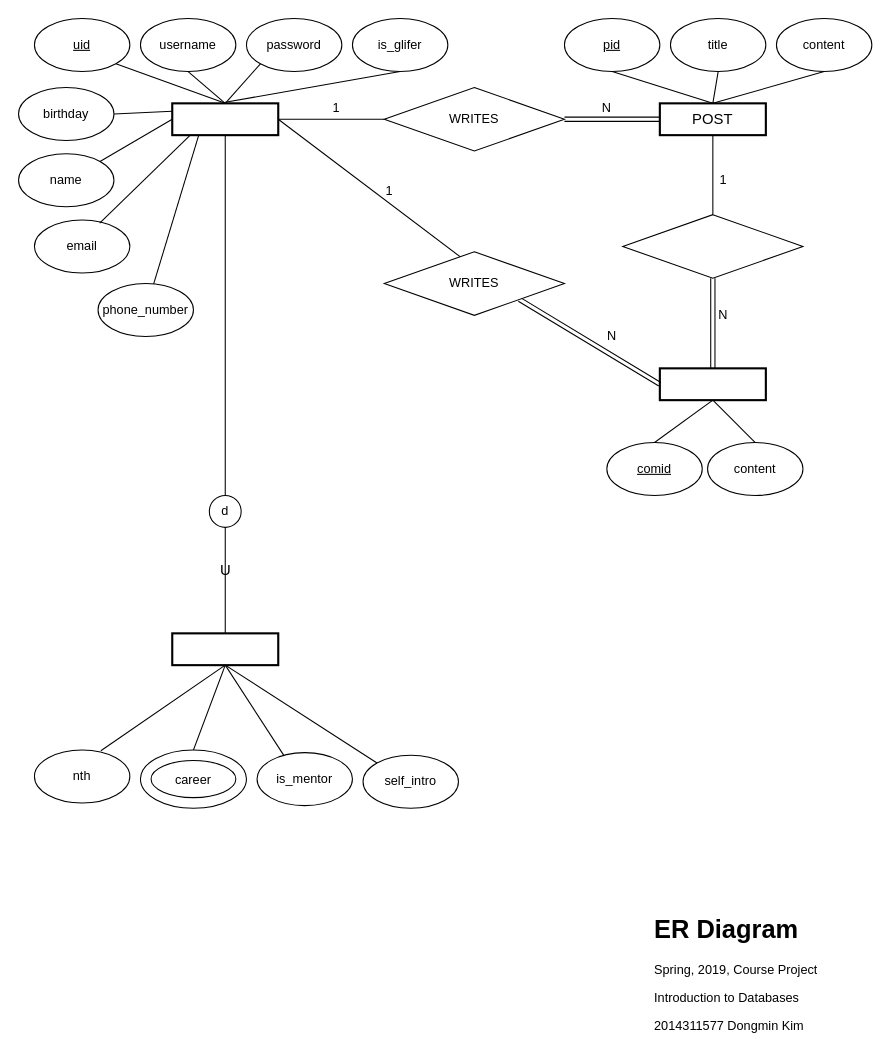
This 890x1055 diagram has some shape labels left out. Each missing label, with the centre of its shape:
"COMMENT" goes at pixel 712 384.
"GLIFER" goes at pixel 225 649.
"HAS" goes at pixel 712 246.
"USER" goes at pixel 225 119.
